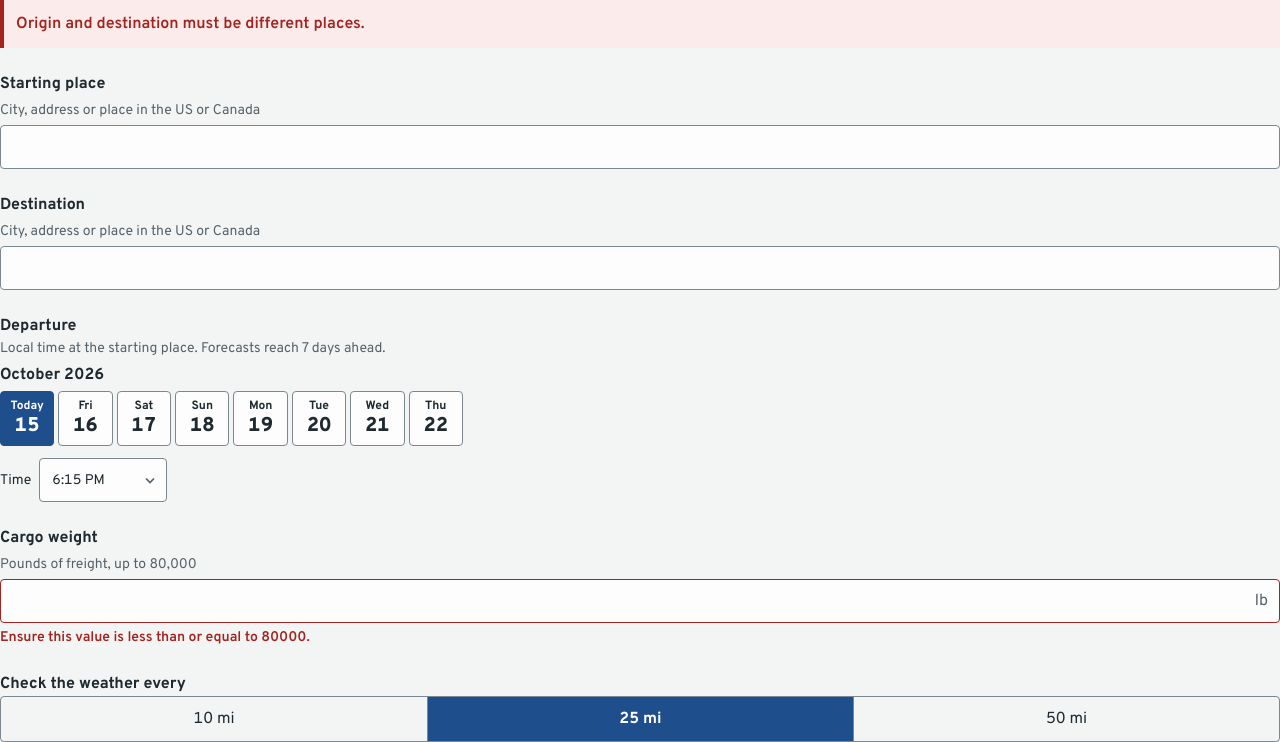
Test: PlanForm › shows API field errors next to their fields until the field is edited
Expected: the text "Ensure this value is less than or equal to 80000." is shown, x1=0 y1=629 x2=310 y2=646
Expected: the message reads "Origin and destination must be different places.", x1=16 y1=14 x2=365 y2=34
In the field labelled "Cargo weight": (640, 601) x1=0 y1=579 x2=1279 y2=623, type "1"
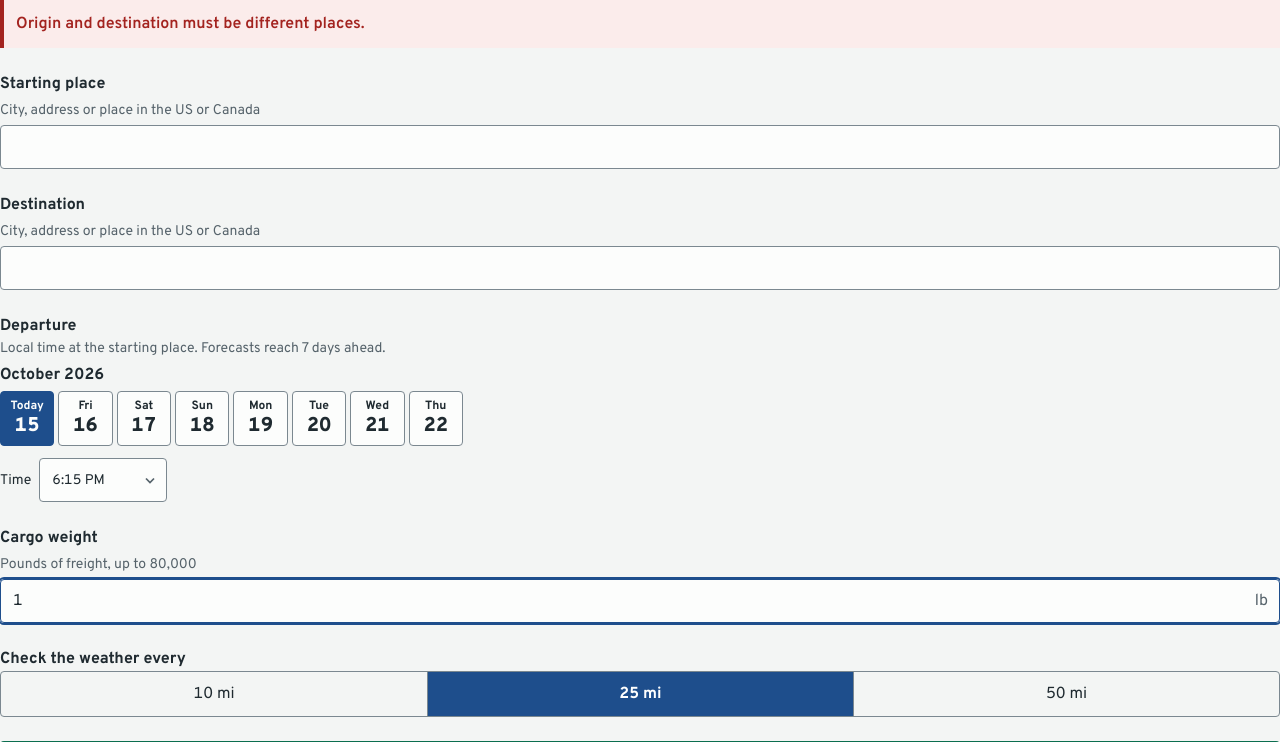
Result: the text "Ensure this value is less than or equal to 80000." is gone
